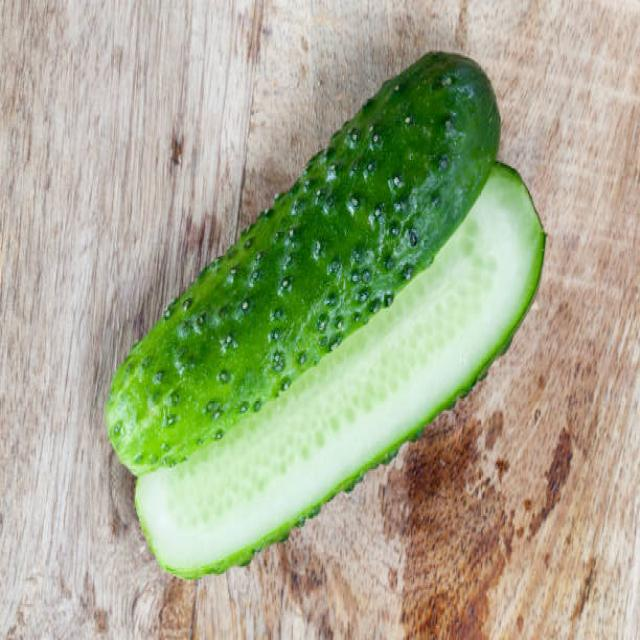cucumber: (105, 49, 546, 576)
